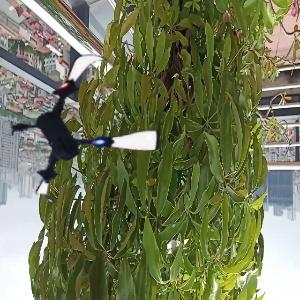drone: (2, 46, 161, 205)
